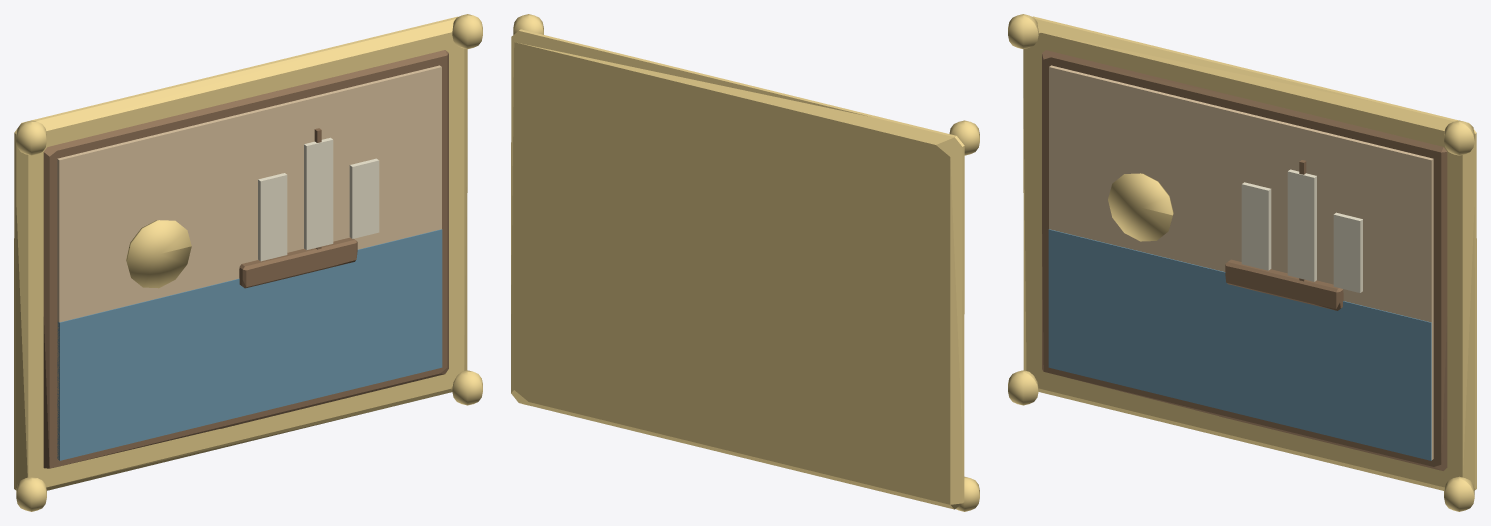
The model's file is kajuete_gemaelde.glb.
3 views of the same model, side by side, from view 1: azimuth 30°, elevation 25°; view 2: azimuth 150°, elevation 25°; view 3: azimuth 330°, elevation 25° (orthographic).
Parts seen in each view (by area): view 1: G_kajuete_gemaelde; view 2: G_kajuete_gemaelde; view 3: G_kajuete_gemaelde.
Part boxes in pixels (bbox=[...]): G_kajuete_gemaelde: bbox=[14, 14, 482, 511]; G_kajuete_gemaelde: bbox=[511, 14, 979, 511]; G_kajuete_gemaelde: bbox=[1008, 14, 1476, 511].
Bounding box in the file's own units: 1.22 × 0.97 × 0.0996.
